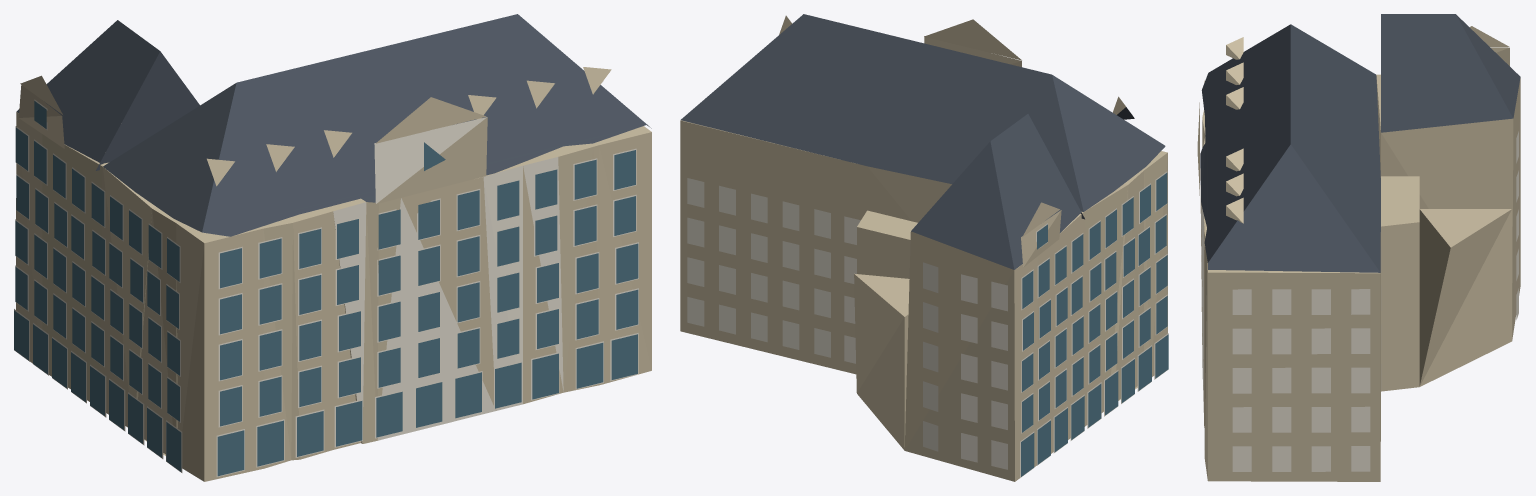
File: madame-tussauds.lod2.glb
3 views of the same model, side by side, from view 1: azimuth 30°, elevation 25°; view 2: azimuth 150°, elevation 25°; view 3: azimuth 270°, elevation 25° (orthographic). The views are drawn at different scales.
Visible parts, largest first — view 1: lod2; view 2: lod2; view 3: lod2.
Boxes of the visible parts, x1,y1,x2,y2 form: lod2: (14,14,651,481); lod2: (680,14,1168,481); lod2: (1197,14,1520,481).
Bounding box in the file's own units: 44.45 × 31.37 × 30.74.
